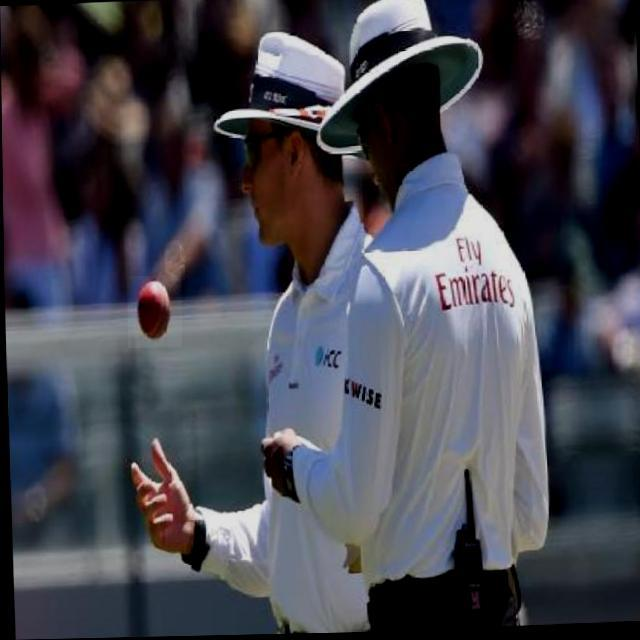-: (126, 276, 181, 349)
